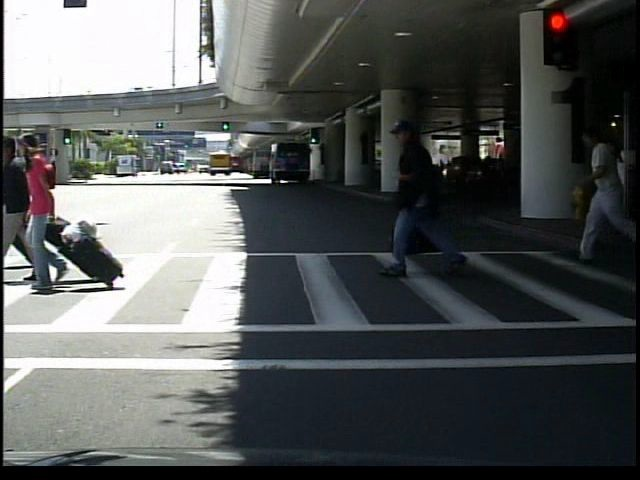person: (374, 113, 469, 279), (580, 114, 634, 267)
